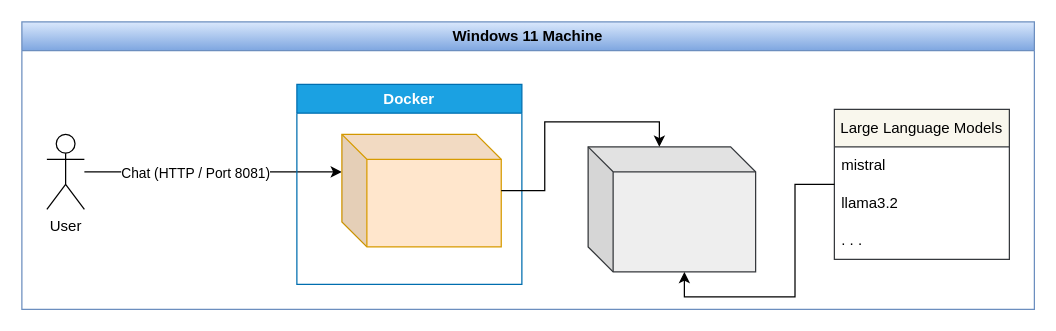
The diagram is 1056 pixels wide and 331 high, and some of its shapes have lost their labels. Each missing label, with the centre of its shape:
"Application" belongs at [421,190].
"Ollama Service (Local)" belongs at [671,209].
